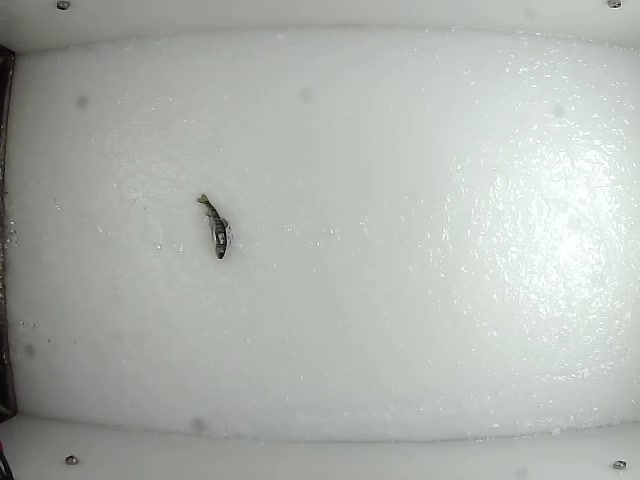fish: (191, 192, 231, 261)
